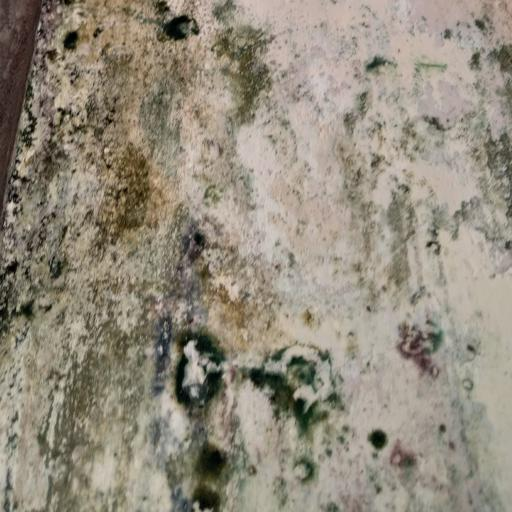algae: (24, 3, 439, 489)
